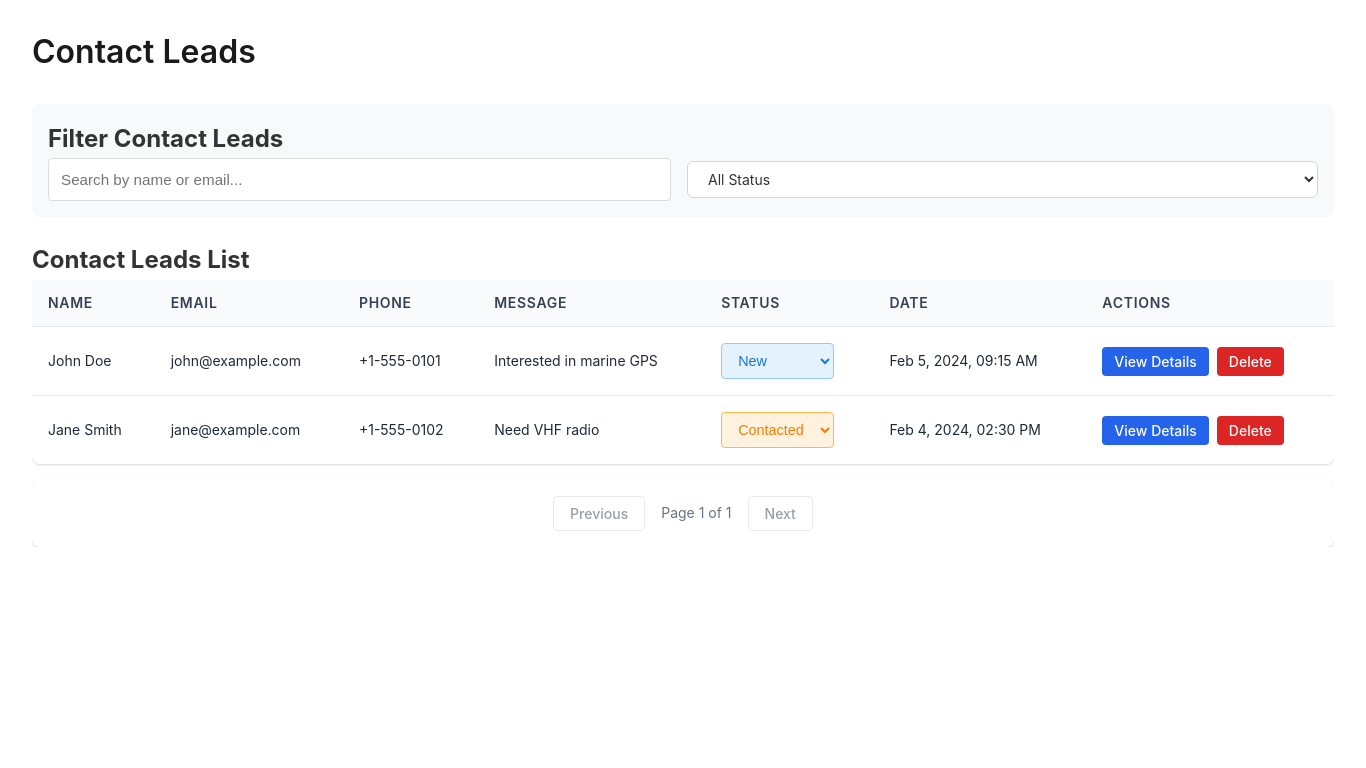
LeadsPage › should open confirm dialog when Delete is clicked
Check: the text "John Doe" is shown, box [32,327,155,396]
What coordinates should you click on to do the following:
click the button "Delete" in the row of "John Doe"
I would click on:
 (1250, 361)
Its box is [1217,347,1284,376].
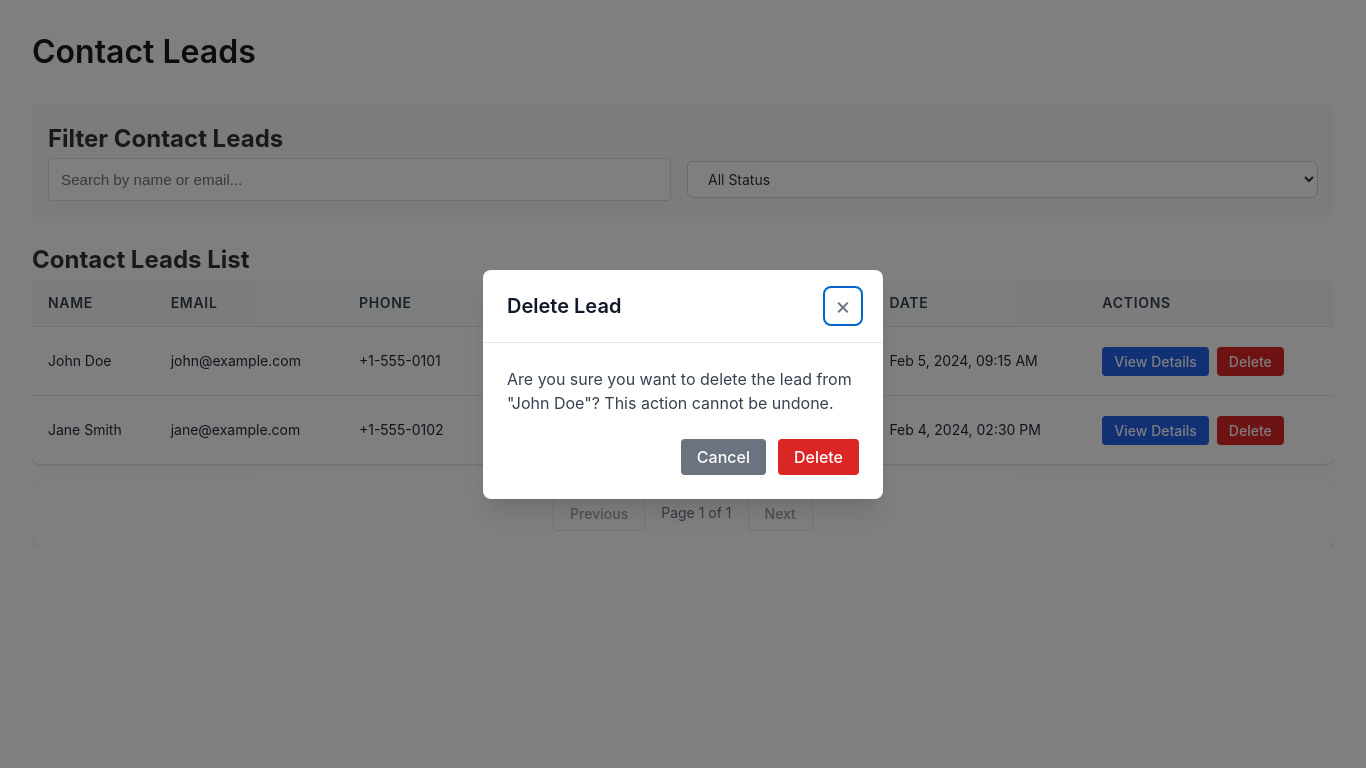
Check: the text "Are you sure" is shown, box [507,368,852,412]
